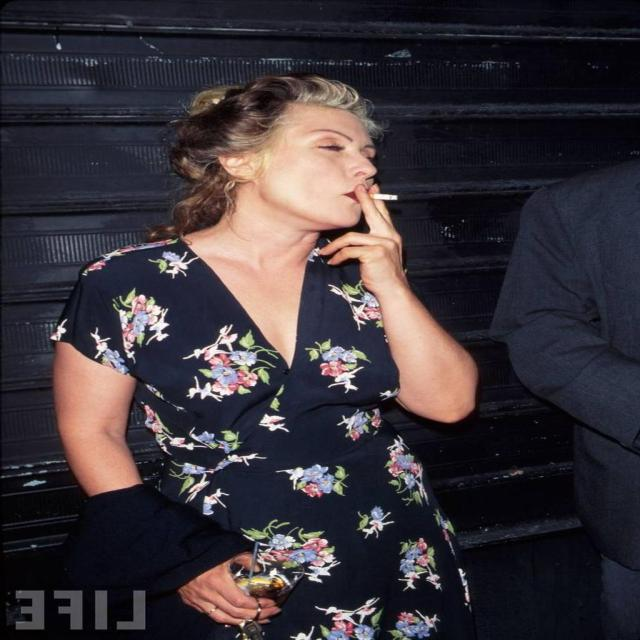smoking: (155, 79, 454, 256)
